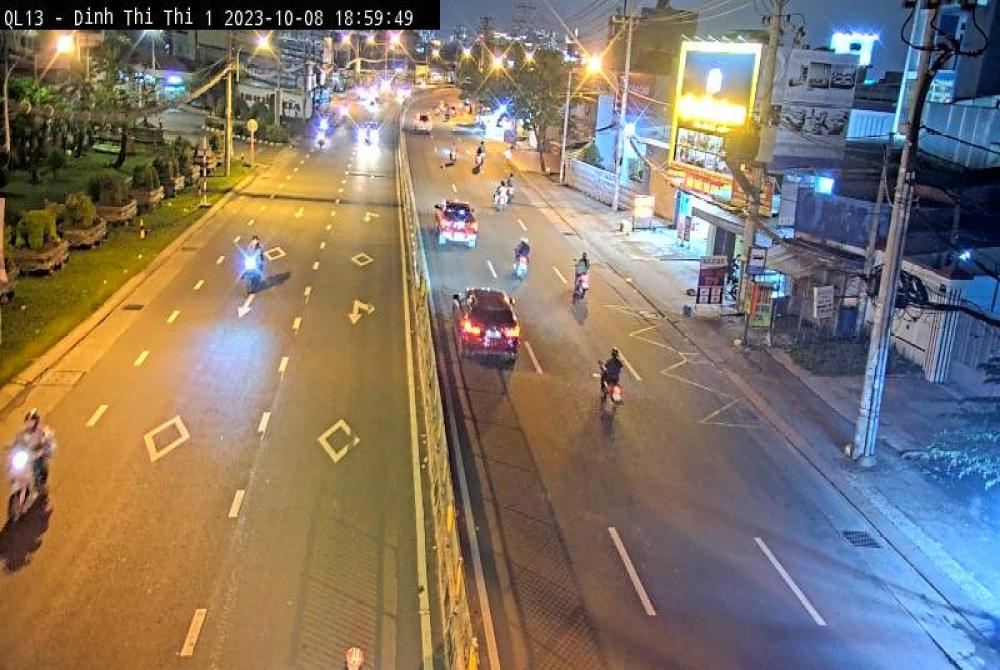car: (449, 279, 525, 370), (425, 190, 487, 261)
